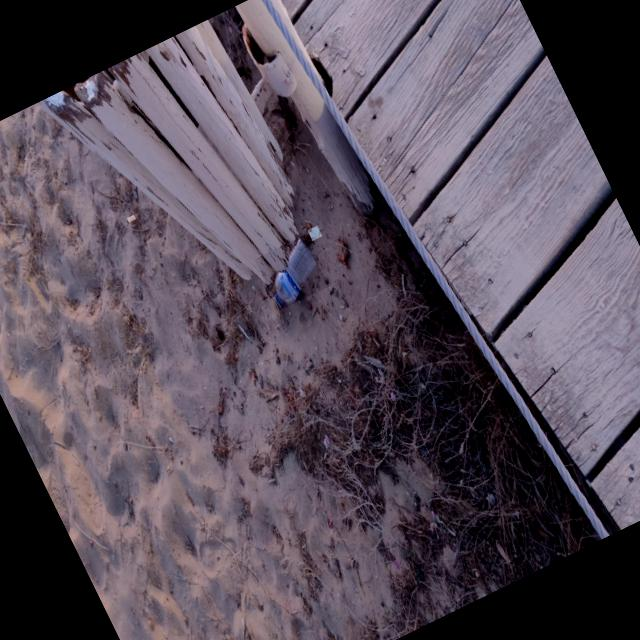Cigarette: (237, 68, 246, 74), (129, 215, 136, 221)
Clear plastic bottle: (274, 237, 317, 308)
Unlabeled litter: (309, 227, 320, 237)
